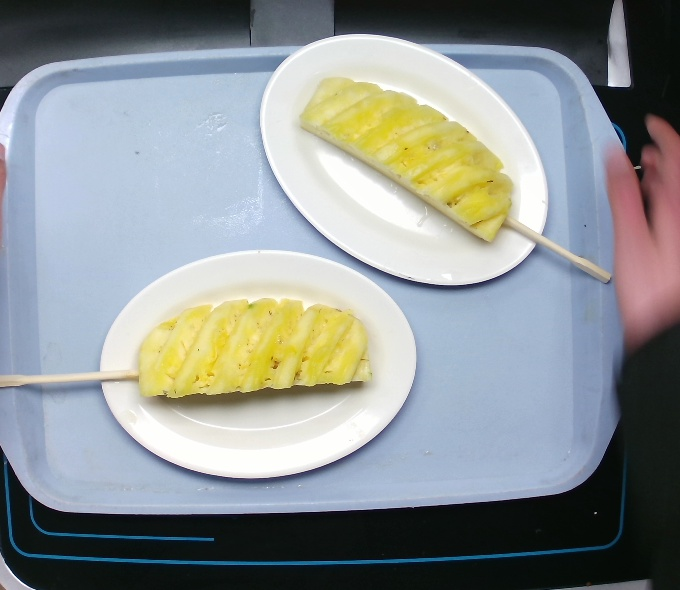wcq-BoLuo: (290, 69, 544, 259), (104, 293, 379, 409)
